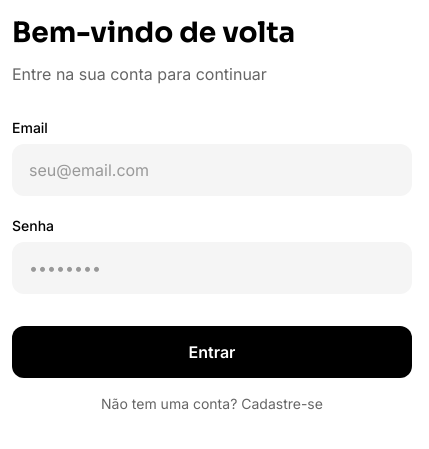
Test: LoginForm › exibe erro de validação para e-mail inválido
Click the button "Entrar" at [212, 352], box [12,326,412,378]
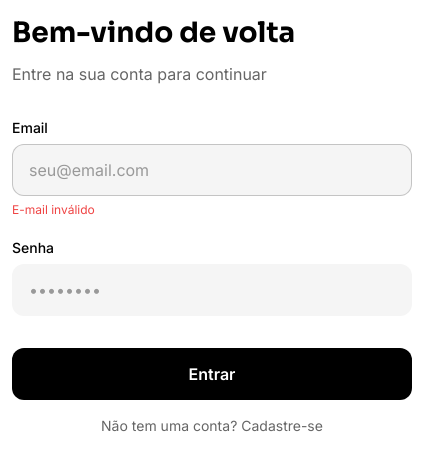
expect the text "E-mail inválido" is shown: met, box [12,202,95,217]
